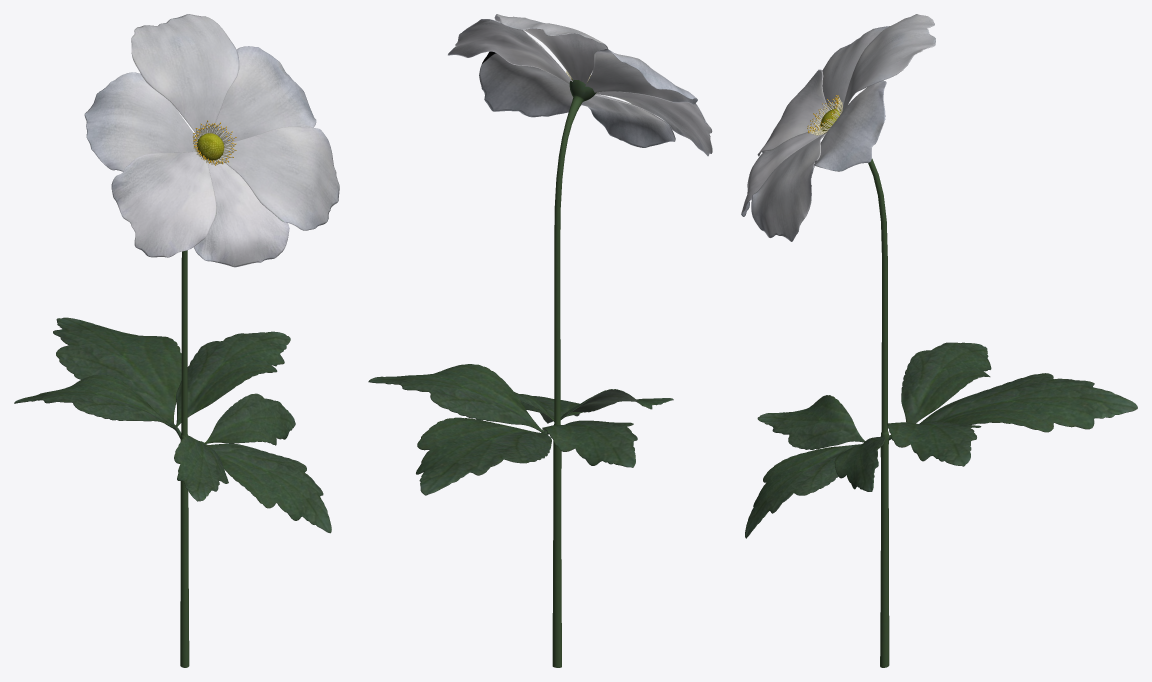
File: Anemone.glb
3 renders of one model, left to right at view 1: azimuth 30°, elevation 25°; view 2: azimuth 150°, elevation 25°; view 3: azimuth 270°, elevation 25°, orthographic. The views are drawn at different scales.
Parts seen in each view (by area): view 1: 12973_anemone_flower_v1_l2; view 2: 12973_anemone_flower_v1_l2; view 3: 12973_anemone_flower_v1_l2.
Part boxes in pixels (x1,y1,x2,y2): 12973_anemone_flower_v1_l2: [14, 14, 339, 667]; 12973_anemone_flower_v1_l2: [368, 14, 712, 667]; 12973_anemone_flower_v1_l2: [741, 14, 1137, 667].
Bounding box in the file's own units: 6.57 × 14.96 × 8.46.
Materials: 1 (1 with a texture image).
